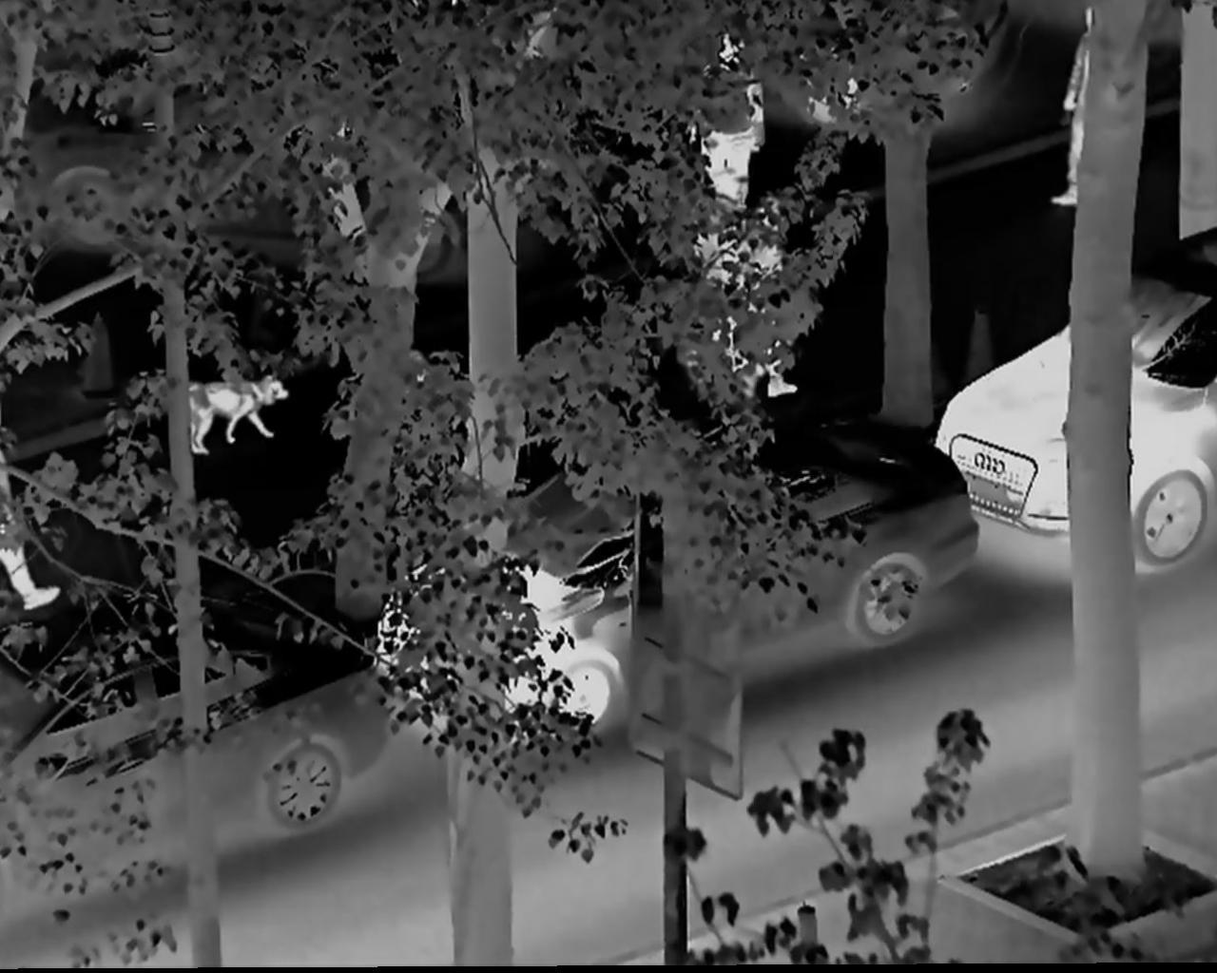person: (684, 34, 764, 229), (1064, 10, 1097, 211)
